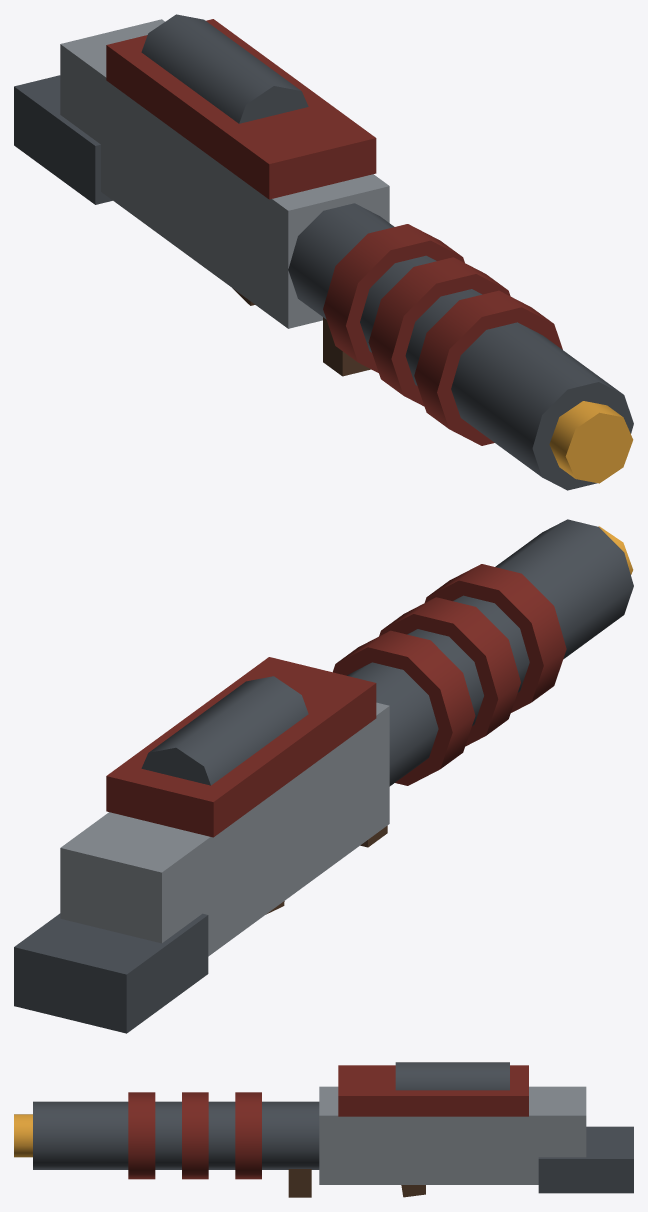
3 renders of one model, top to bottom at view 1: azimuth 30°, elevation 25°; view 2: azimuth 150°, elevation 25°; view 3: azimuth 270°, elevation 25°, orthographic. The views are drawn at different scales.
Parts seen in each view (by area): view 1: garde_weapon_plasma_caster; view 2: garde_weapon_plasma_caster; view 3: garde_weapon_plasma_caster.
Part boxes in pixels (x1=…): garde_weapon_plasma_caster: x1=14, y1=14, x2=633, y2=490; garde_weapon_plasma_caster: x1=14, y1=519, x2=633, y2=1033; garde_weapon_plasma_caster: x1=14, y1=1062, x2=633, y2=1197.
Bounding box in the file's own units: 0.23 × 0.3742 × 1.62.
